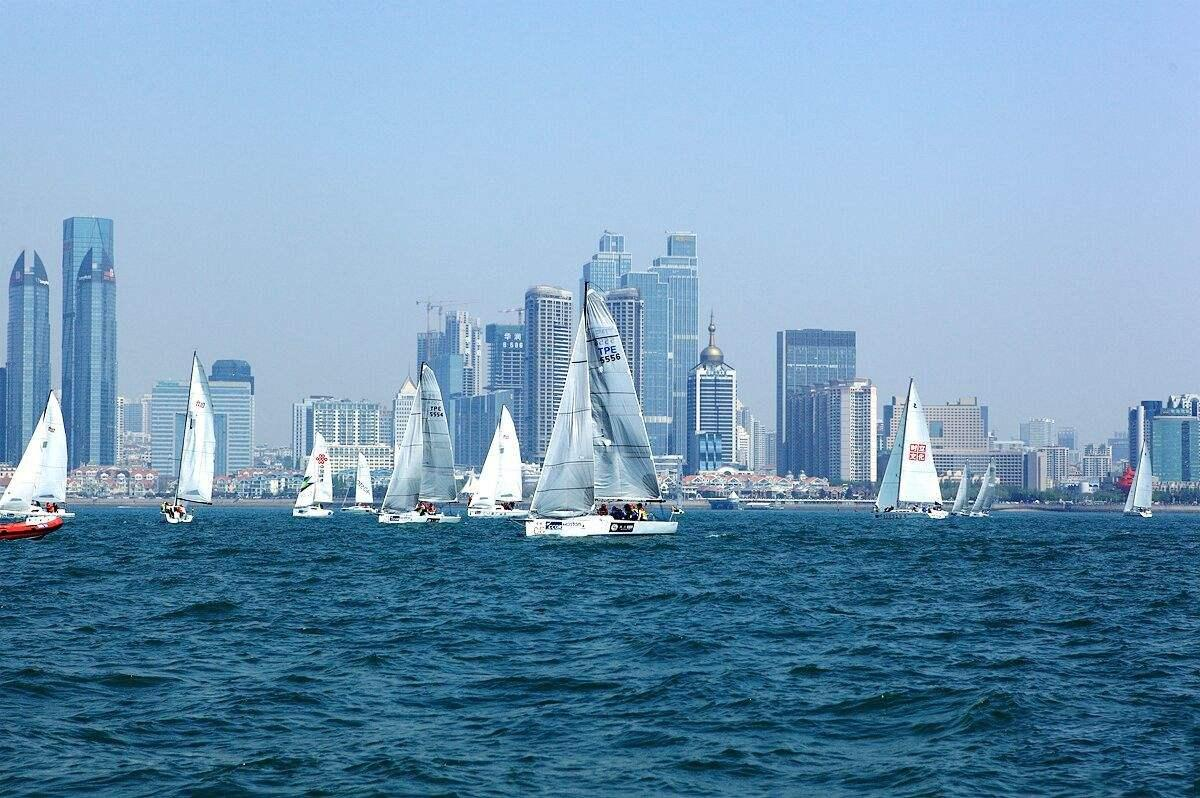fanchuan: (522, 283, 688, 547), (868, 377, 956, 524), (382, 364, 460, 528), (2, 389, 79, 539), (160, 350, 221, 529), (465, 404, 532, 524), (288, 432, 339, 524), (1123, 441, 1166, 522), (972, 461, 999, 524), (949, 466, 977, 520)
